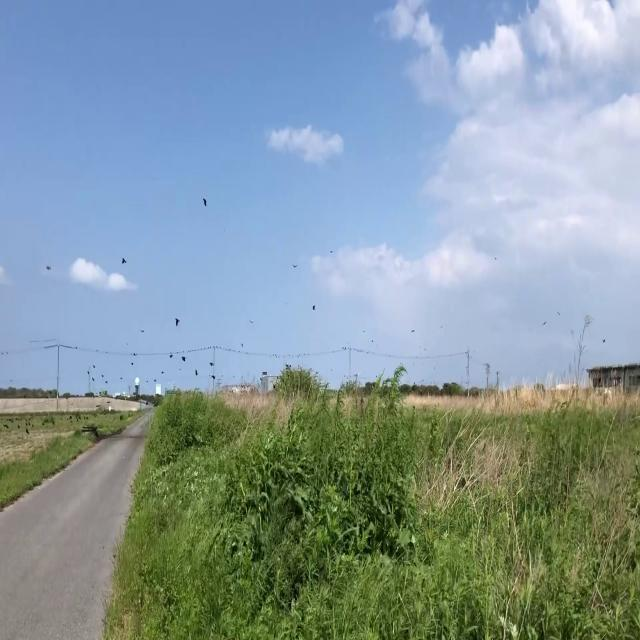bird: (175, 313, 180, 327), (312, 298, 317, 312), (203, 193, 207, 210), (122, 252, 126, 268), (181, 351, 186, 363), (25, 420, 29, 434), (331, 243, 334, 254)
